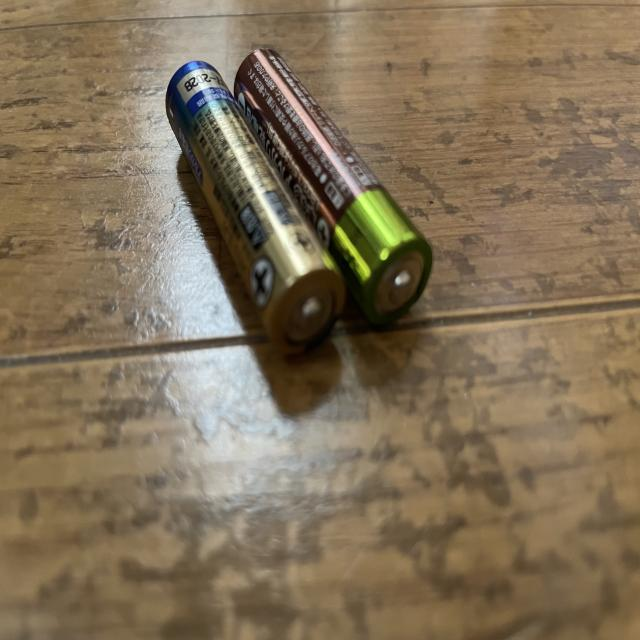hazardous waste: (230, 42, 443, 338), (156, 55, 354, 358)
